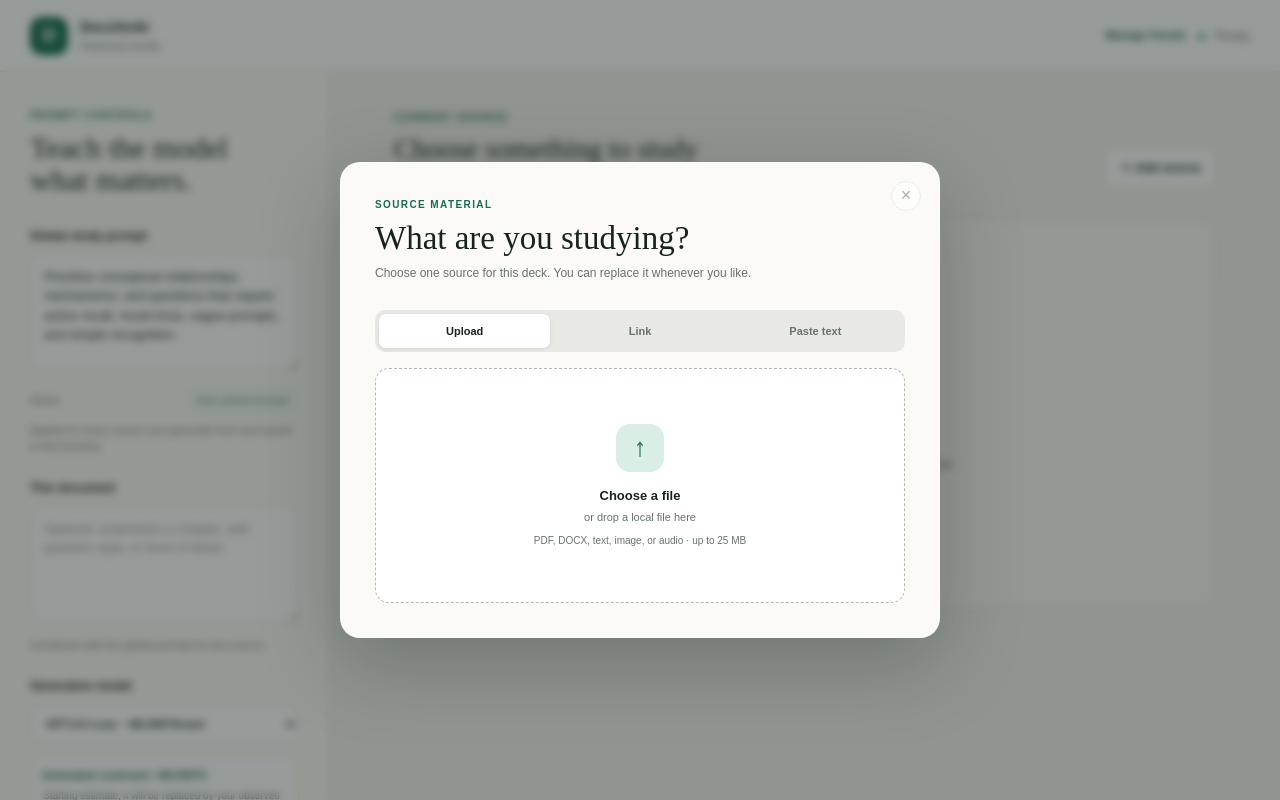
source dialog › keeps short pasted-text validation visible inside the dialog
Click the button "Paste text" at (815, 331), box left=730, top=314, right=901, bottom=348
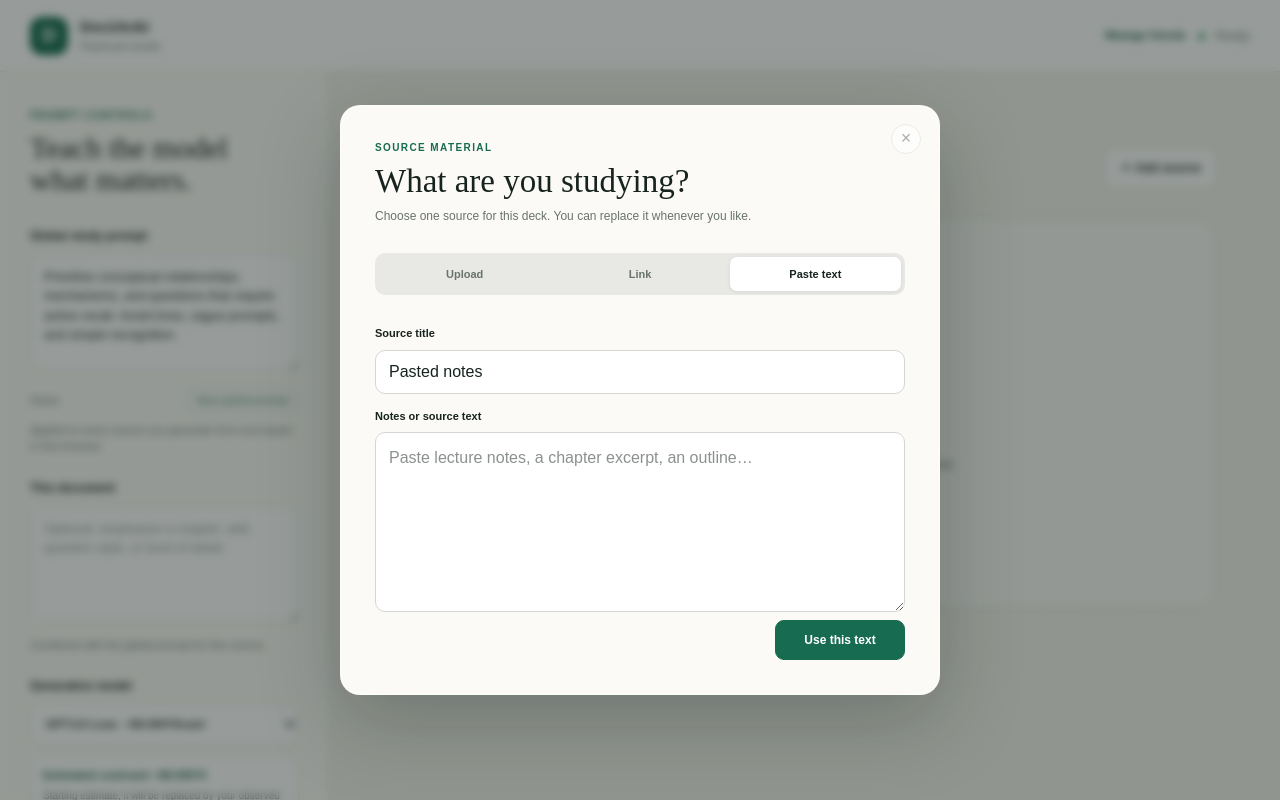
Type "Too short." into the text box labelled "Notes or source text" at (640, 522), box left=375, top=432, right=905, bottom=612
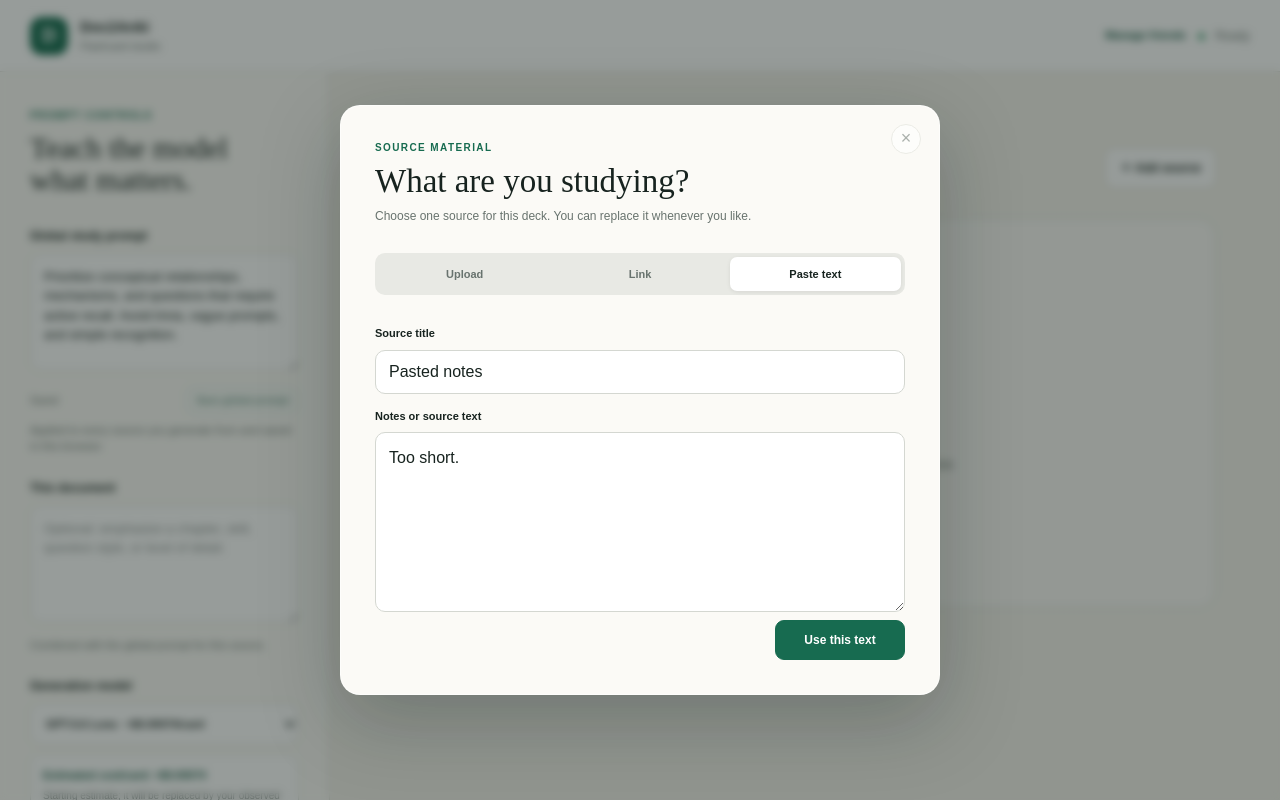
Click the button "Use this text" at (840, 640), box left=775, top=620, right=905, bottom=660
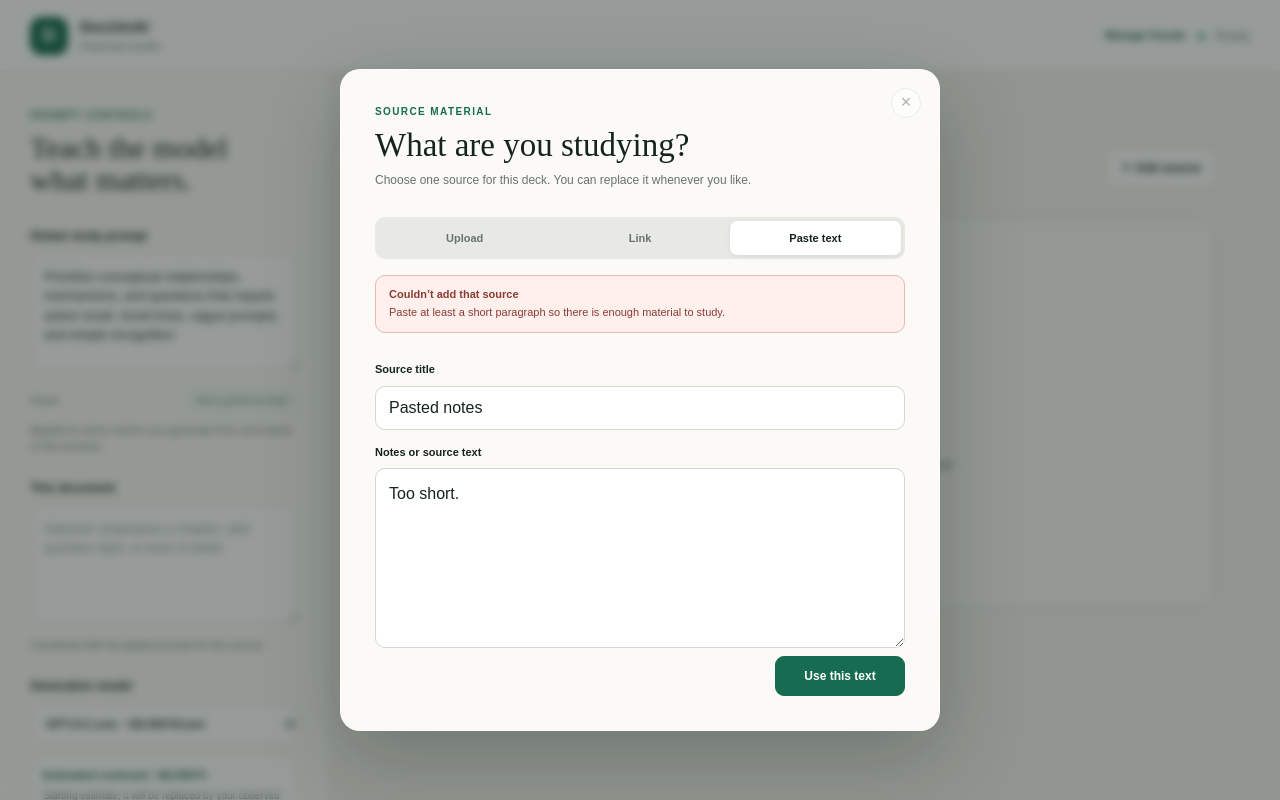
Result: the message shows "Paste at least a short paragraph" at left=389, top=306, right=725, bottom=318
